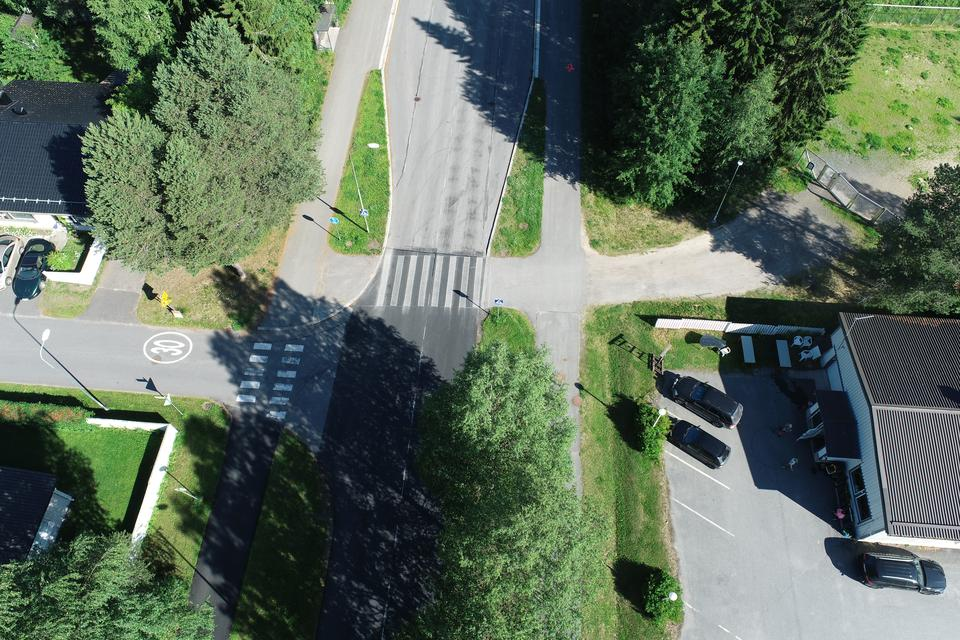intersection: (358, 215, 629, 349), (135, 297, 337, 468)
